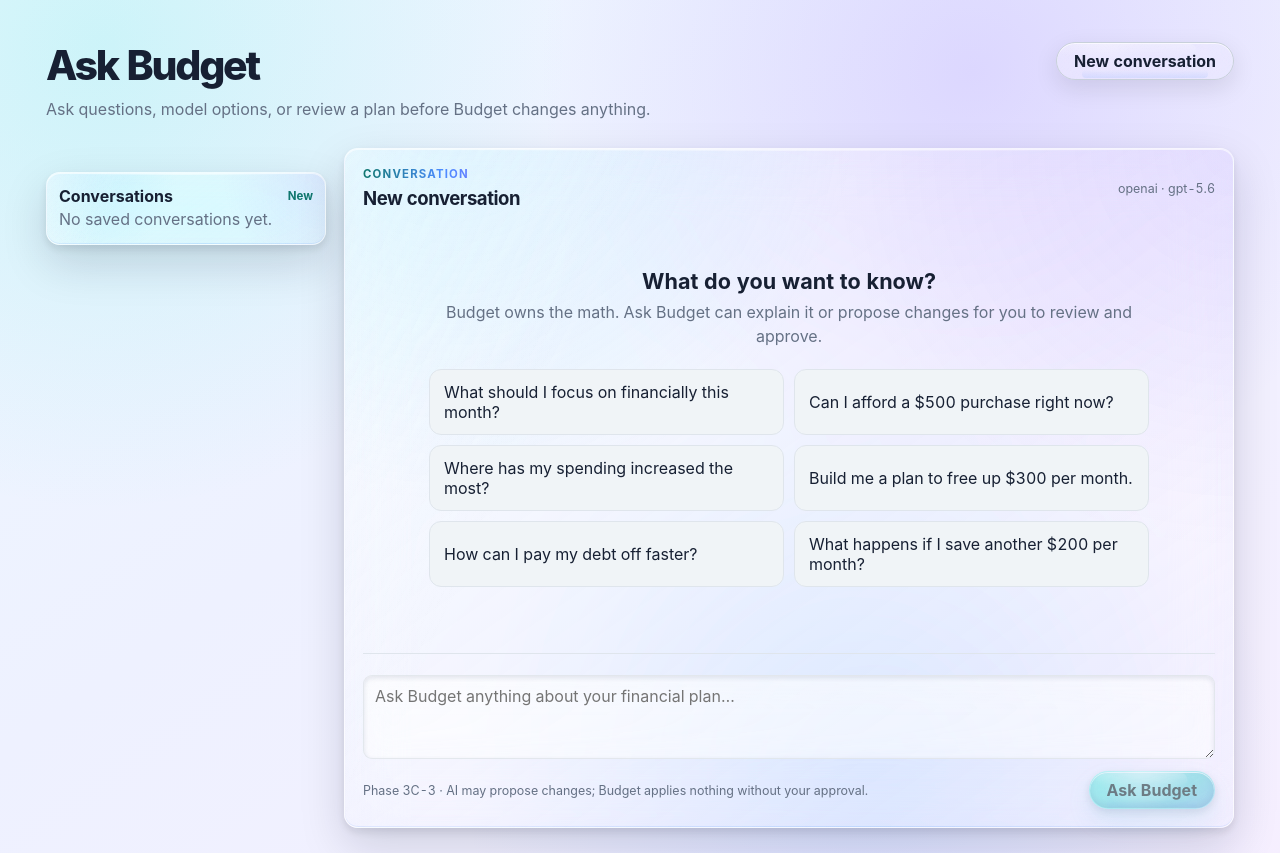
Test: AdvisorPage › renders a deterministic action preview and applies it only after approval
Type "Build me a plan" into the text box labelled "Ask Budget" at (789,717), box [363,675,1215,759]
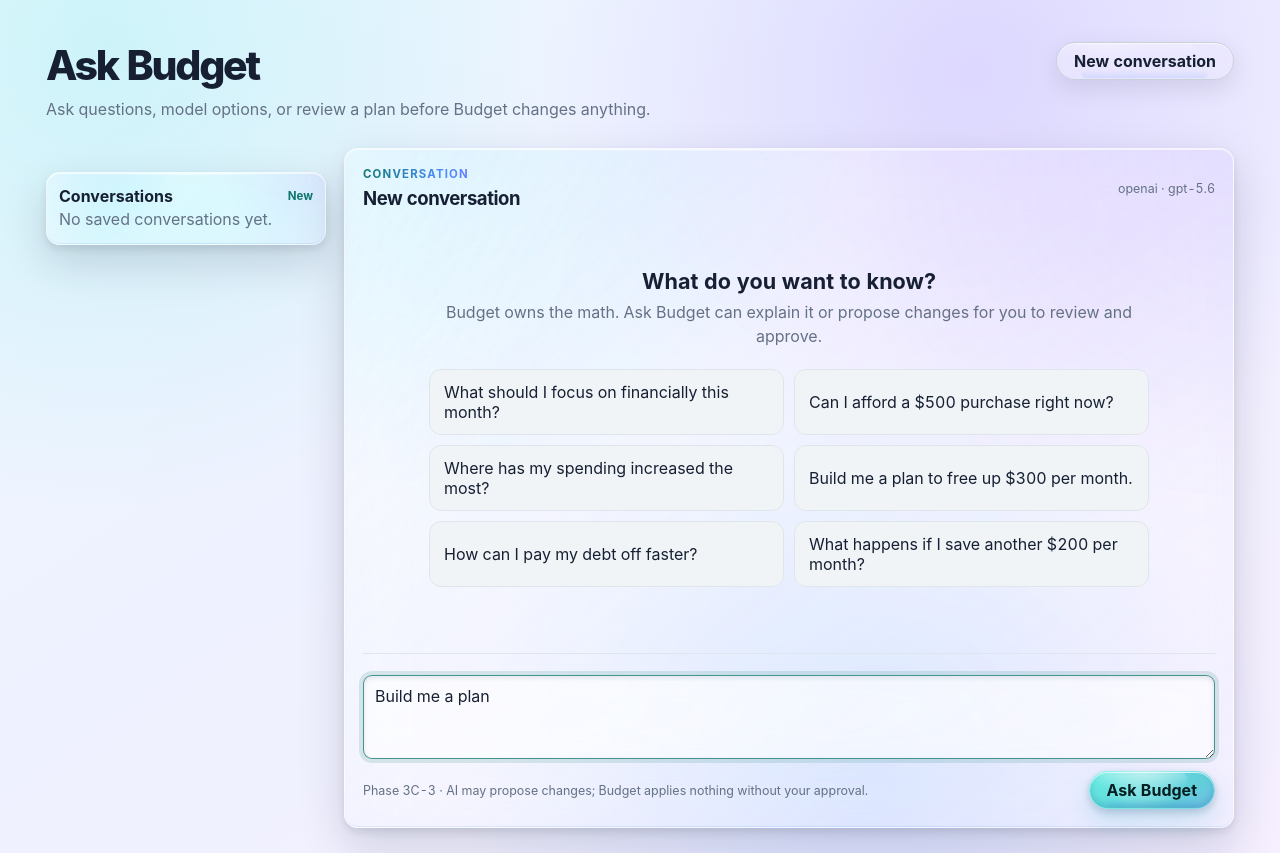
Click the button "Ask Budget" at (1152,790), box [1089,771,1215,809]
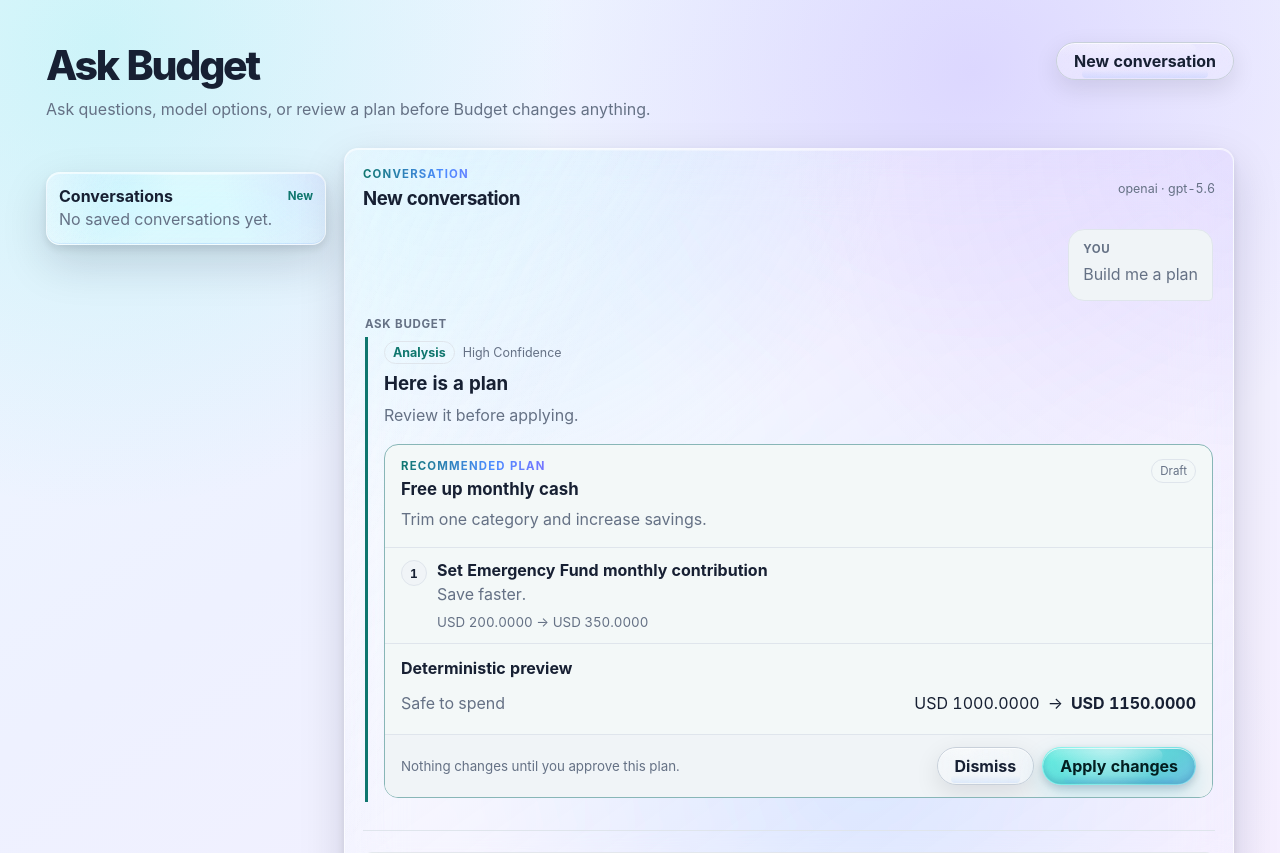
Now the heading "Free up monthly cash" is shown, box [401,480,579,500]
Now the text "USD 1000.0000" is shown, box [914,693,1040,713]
Now the text "USD 1150.0000" is shown, box [1071,693,1196,713]
Click the button "Apply changes" at (1119,766), box [1042,747,1196,785]
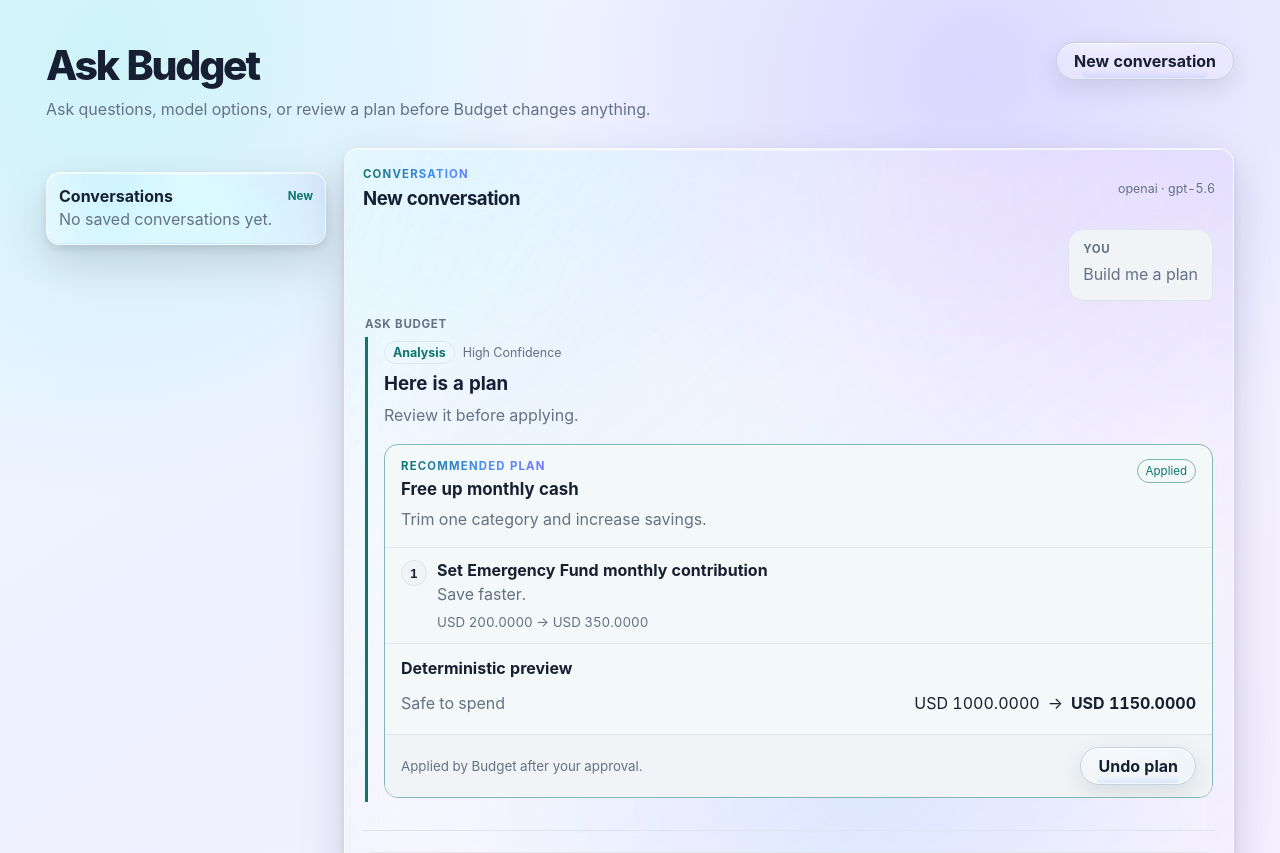
Now the button "Undo plan" is shown, box [1080,747,1196,785]
